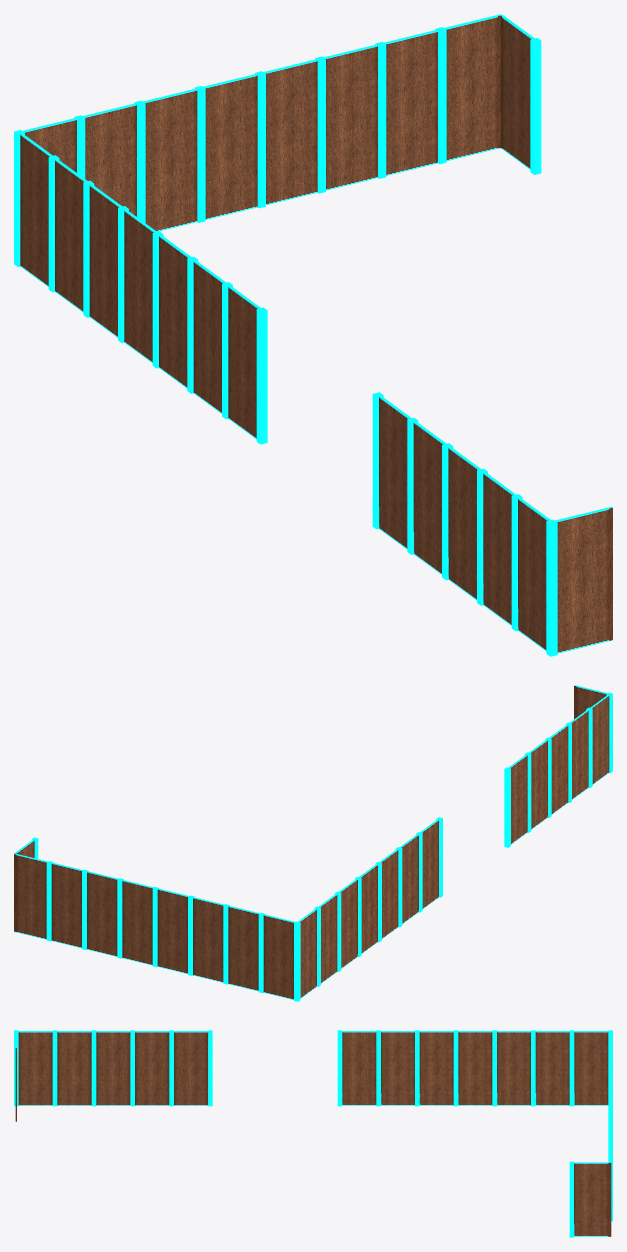
File: fence2.glb
3 views of the same model, one above another, from view 1: azimuth 30°, elevation 25°; view 2: azimuth 150°, elevation 25°; view 3: azimuth 270°, elevation 25° (orthographic). The views are drawn at different scales.
Visible parts, largest first — view 1: Box228, Box235, Box239, Box237, Box238, Box236, Box240, Box226, Box249, Box241, Box248, Box229 (+10 smaller); view 2: Box235, Box242, Box236, Box240, Box237, Box238, Box239, Box241, Box233, Box229, Box247, Box230 (+9 smaller); view 3: Box226, Box230, Box249, Box229, Box243, Box246, Box232, Box231, Box245, Box247, Box248, Box233 (+3 smaller).
Part boxes in pixels (x1=…): Box228: x1=546, y1=506, x2=612, y2=656; Box235: x1=435, y1=14, x2=501, y2=164; Box239: x1=194, y1=73, x2=259, y2=222; Box237: x1=315, y1=44, x2=381, y2=193; Box238: x1=255, y1=59, x2=318, y2=208; Box236: x1=375, y1=29, x2=441, y2=178; Box240: x1=134, y1=88, x2=199, y2=231; Box226: x1=500, y1=14, x2=541, y2=174; Box249: x1=226, y1=284, x2=267, y2=444; Box241: x1=74, y1=102, x2=139, y2=216; Box248: x1=191, y1=259, x2=232, y2=419; Box229: x1=511, y1=494, x2=551, y2=650; Box235: x1=14, y1=853, x2=53, y2=941; Box242: x1=262, y1=914, x2=300, y2=1001; Box236: x1=50, y1=862, x2=88, y2=949; Box240: x1=192, y1=897, x2=229, y2=984; Box237: x1=86, y1=871, x2=123, y2=958; Box238: x1=121, y1=879, x2=159, y2=967; Box239: x1=157, y1=888, x2=194, y2=975; Box241: x1=228, y1=905, x2=264, y2=993; Box233: x1=504, y1=753, x2=527, y2=847; Box229: x1=586, y1=694, x2=609, y2=787; Box247: x1=378, y1=847, x2=402, y2=938; Box230: x1=565, y1=709, x2=589, y2=802; Box226: x1=569, y1=1161, x2=610, y2=1237; Box230: x1=56, y1=1030, x2=96, y2=1106; Box249: x1=337, y1=1030, x2=377, y2=1106; Box229: x1=17, y1=1030, x2=57, y2=1106; Box243: x1=569, y1=1030, x2=608, y2=1106; Box246: x1=453, y1=1030, x2=492, y2=1106; Box232: x1=132, y1=1030, x2=173, y2=1106; Box231: x1=94, y1=1030, x2=134, y2=1106; Box245: x1=492, y1=1030, x2=531, y2=1106; Box247: x1=415, y1=1030, x2=455, y2=1106; Box248: x1=376, y1=1030, x2=416, y2=1106; Box233: x1=174, y1=1030, x2=212, y2=1106.
Size of what is drawn, in the model's own units: 17.38 by 4.51 by 33.05.
1 material, 1 textured.
